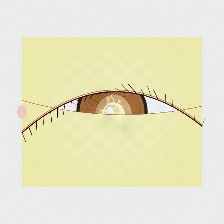corneal_ulcer: (91, 98, 136, 135)
